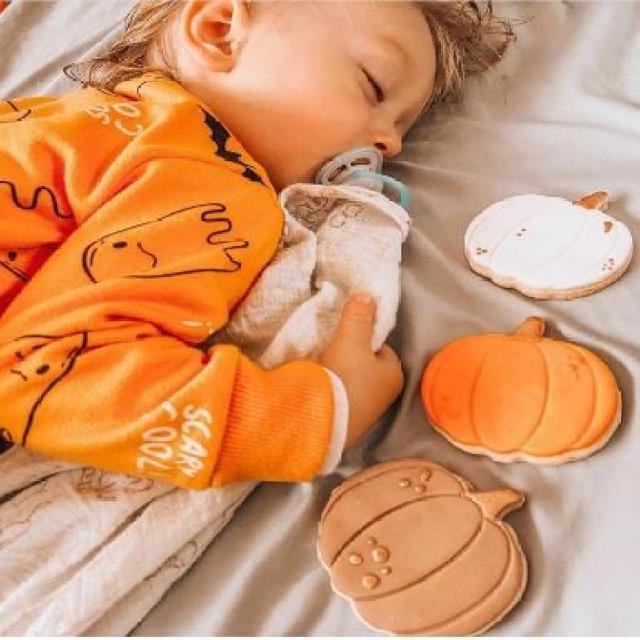baby: (4, 0, 460, 483)
